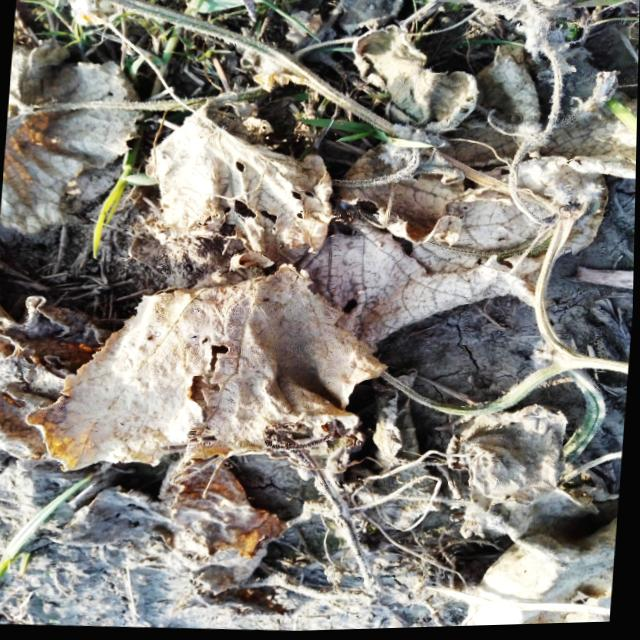Bacterial-Wilt: (27, 265, 391, 488)
